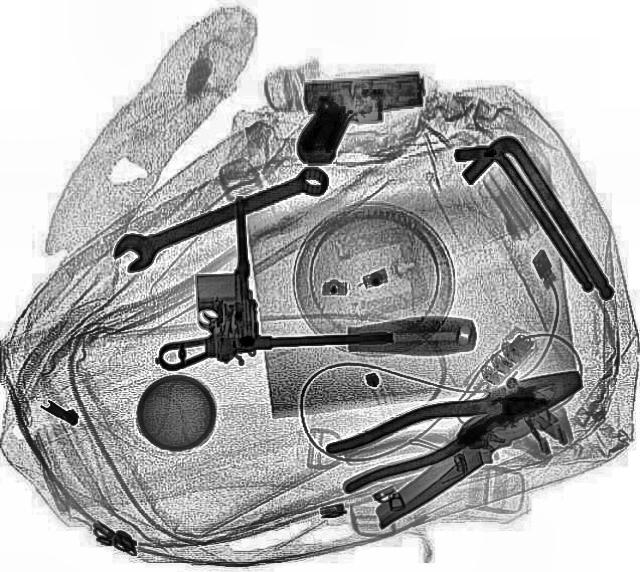Gun: (142, 194, 264, 370), (295, 71, 425, 164)
Pliers: (317, 352, 595, 496)
Wrench: (101, 156, 336, 278)
